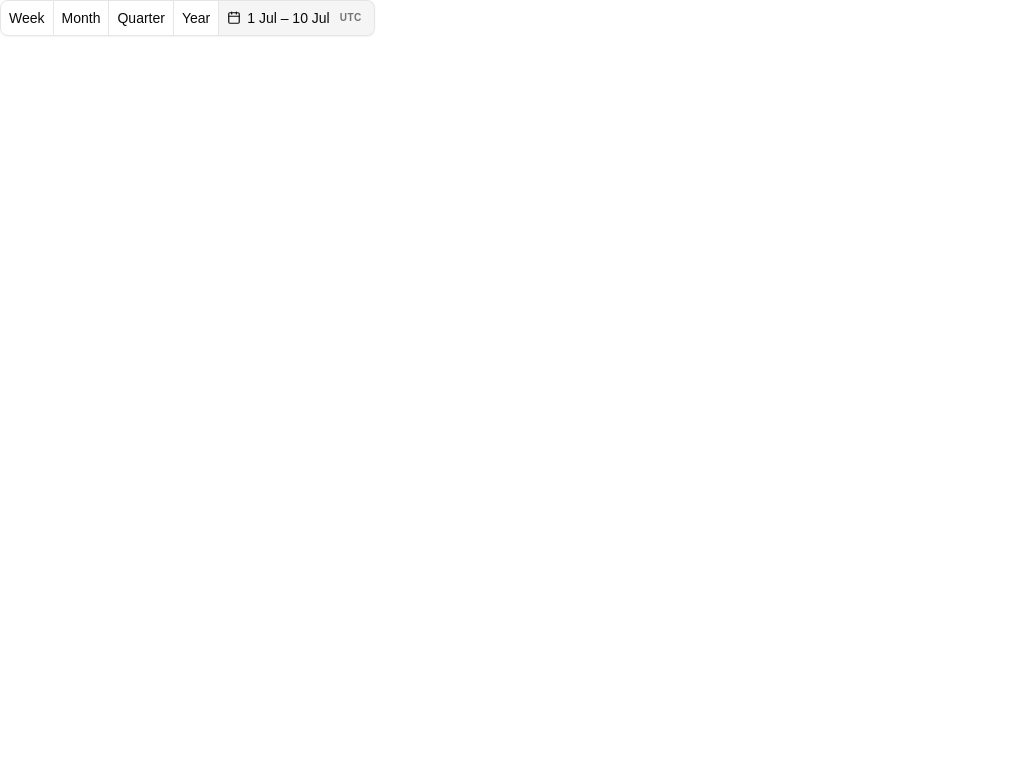
Test case: <PeriodSelectorBar> › opens the calendar popover and cancels without applying
Click the text "1 Jul – 10 Jul" at (288, 18), box [247,8,330,28]
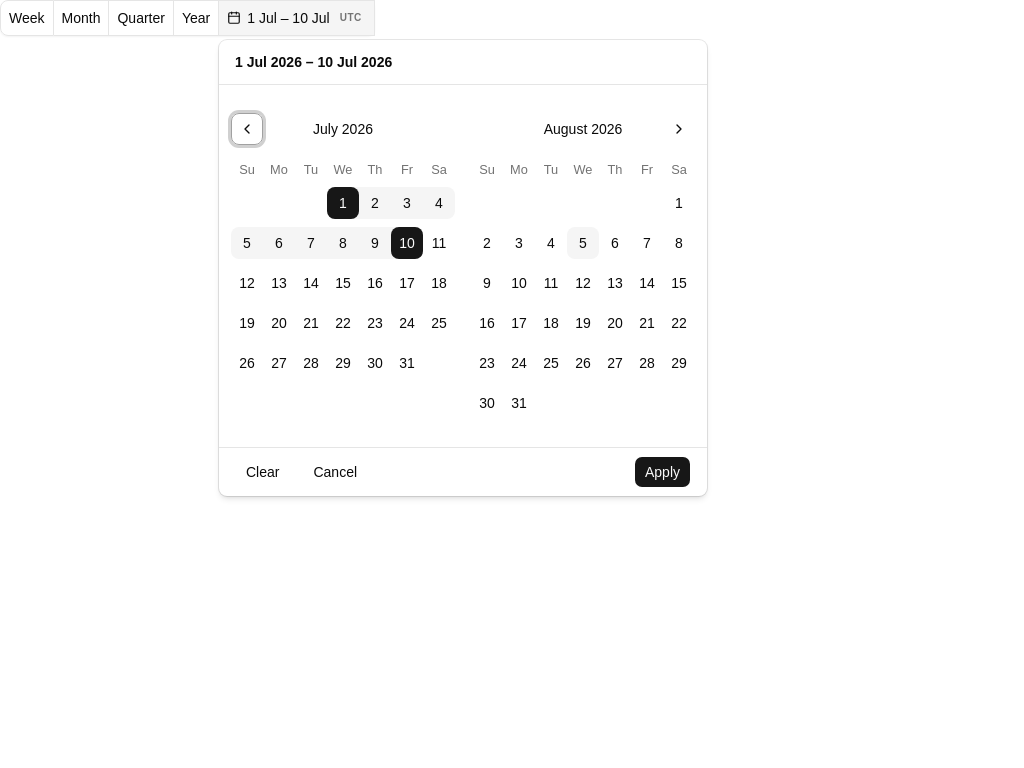
Expected: the text "1 Jul 2026 – 10 Jul 2026" is shown, [235,54,392,70]
Click the button "Cancel" at (335, 472), box [302,456,368,488]
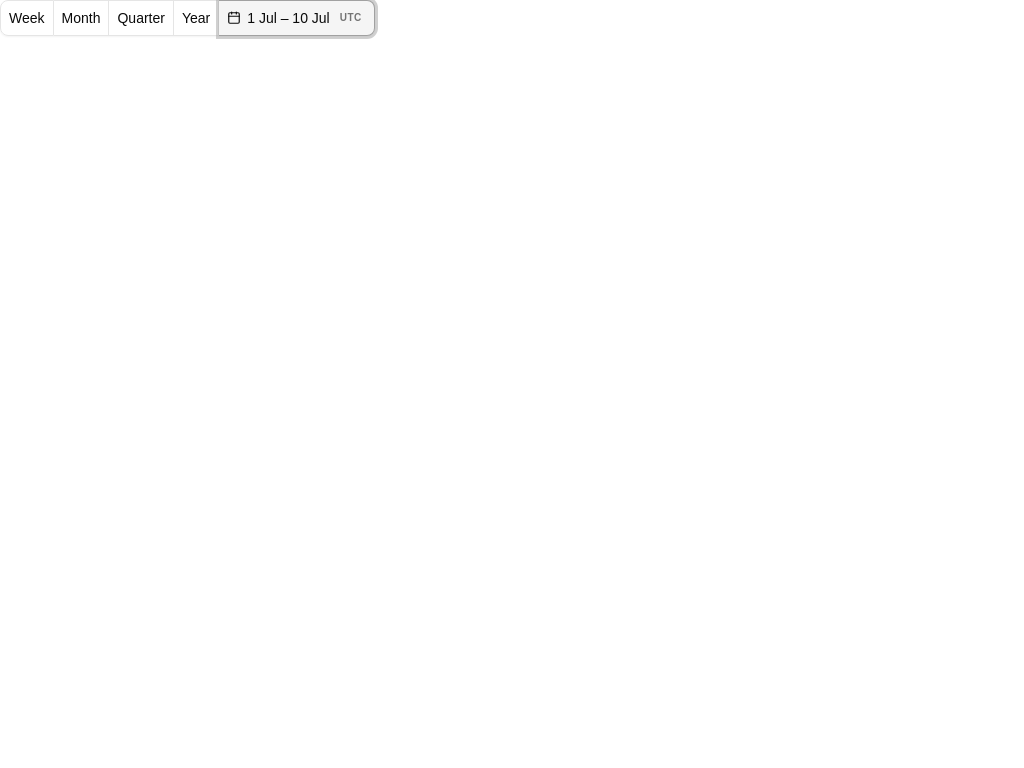
Expected: the button "Apply" is gone
